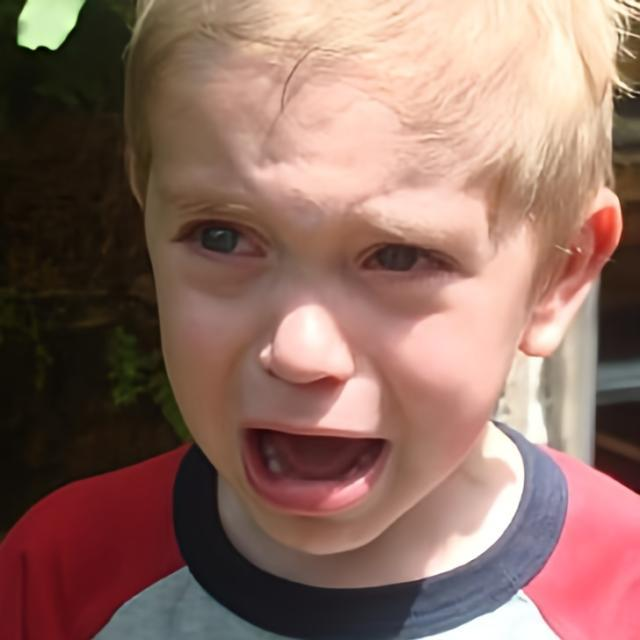fear: (141, 29, 534, 558)
